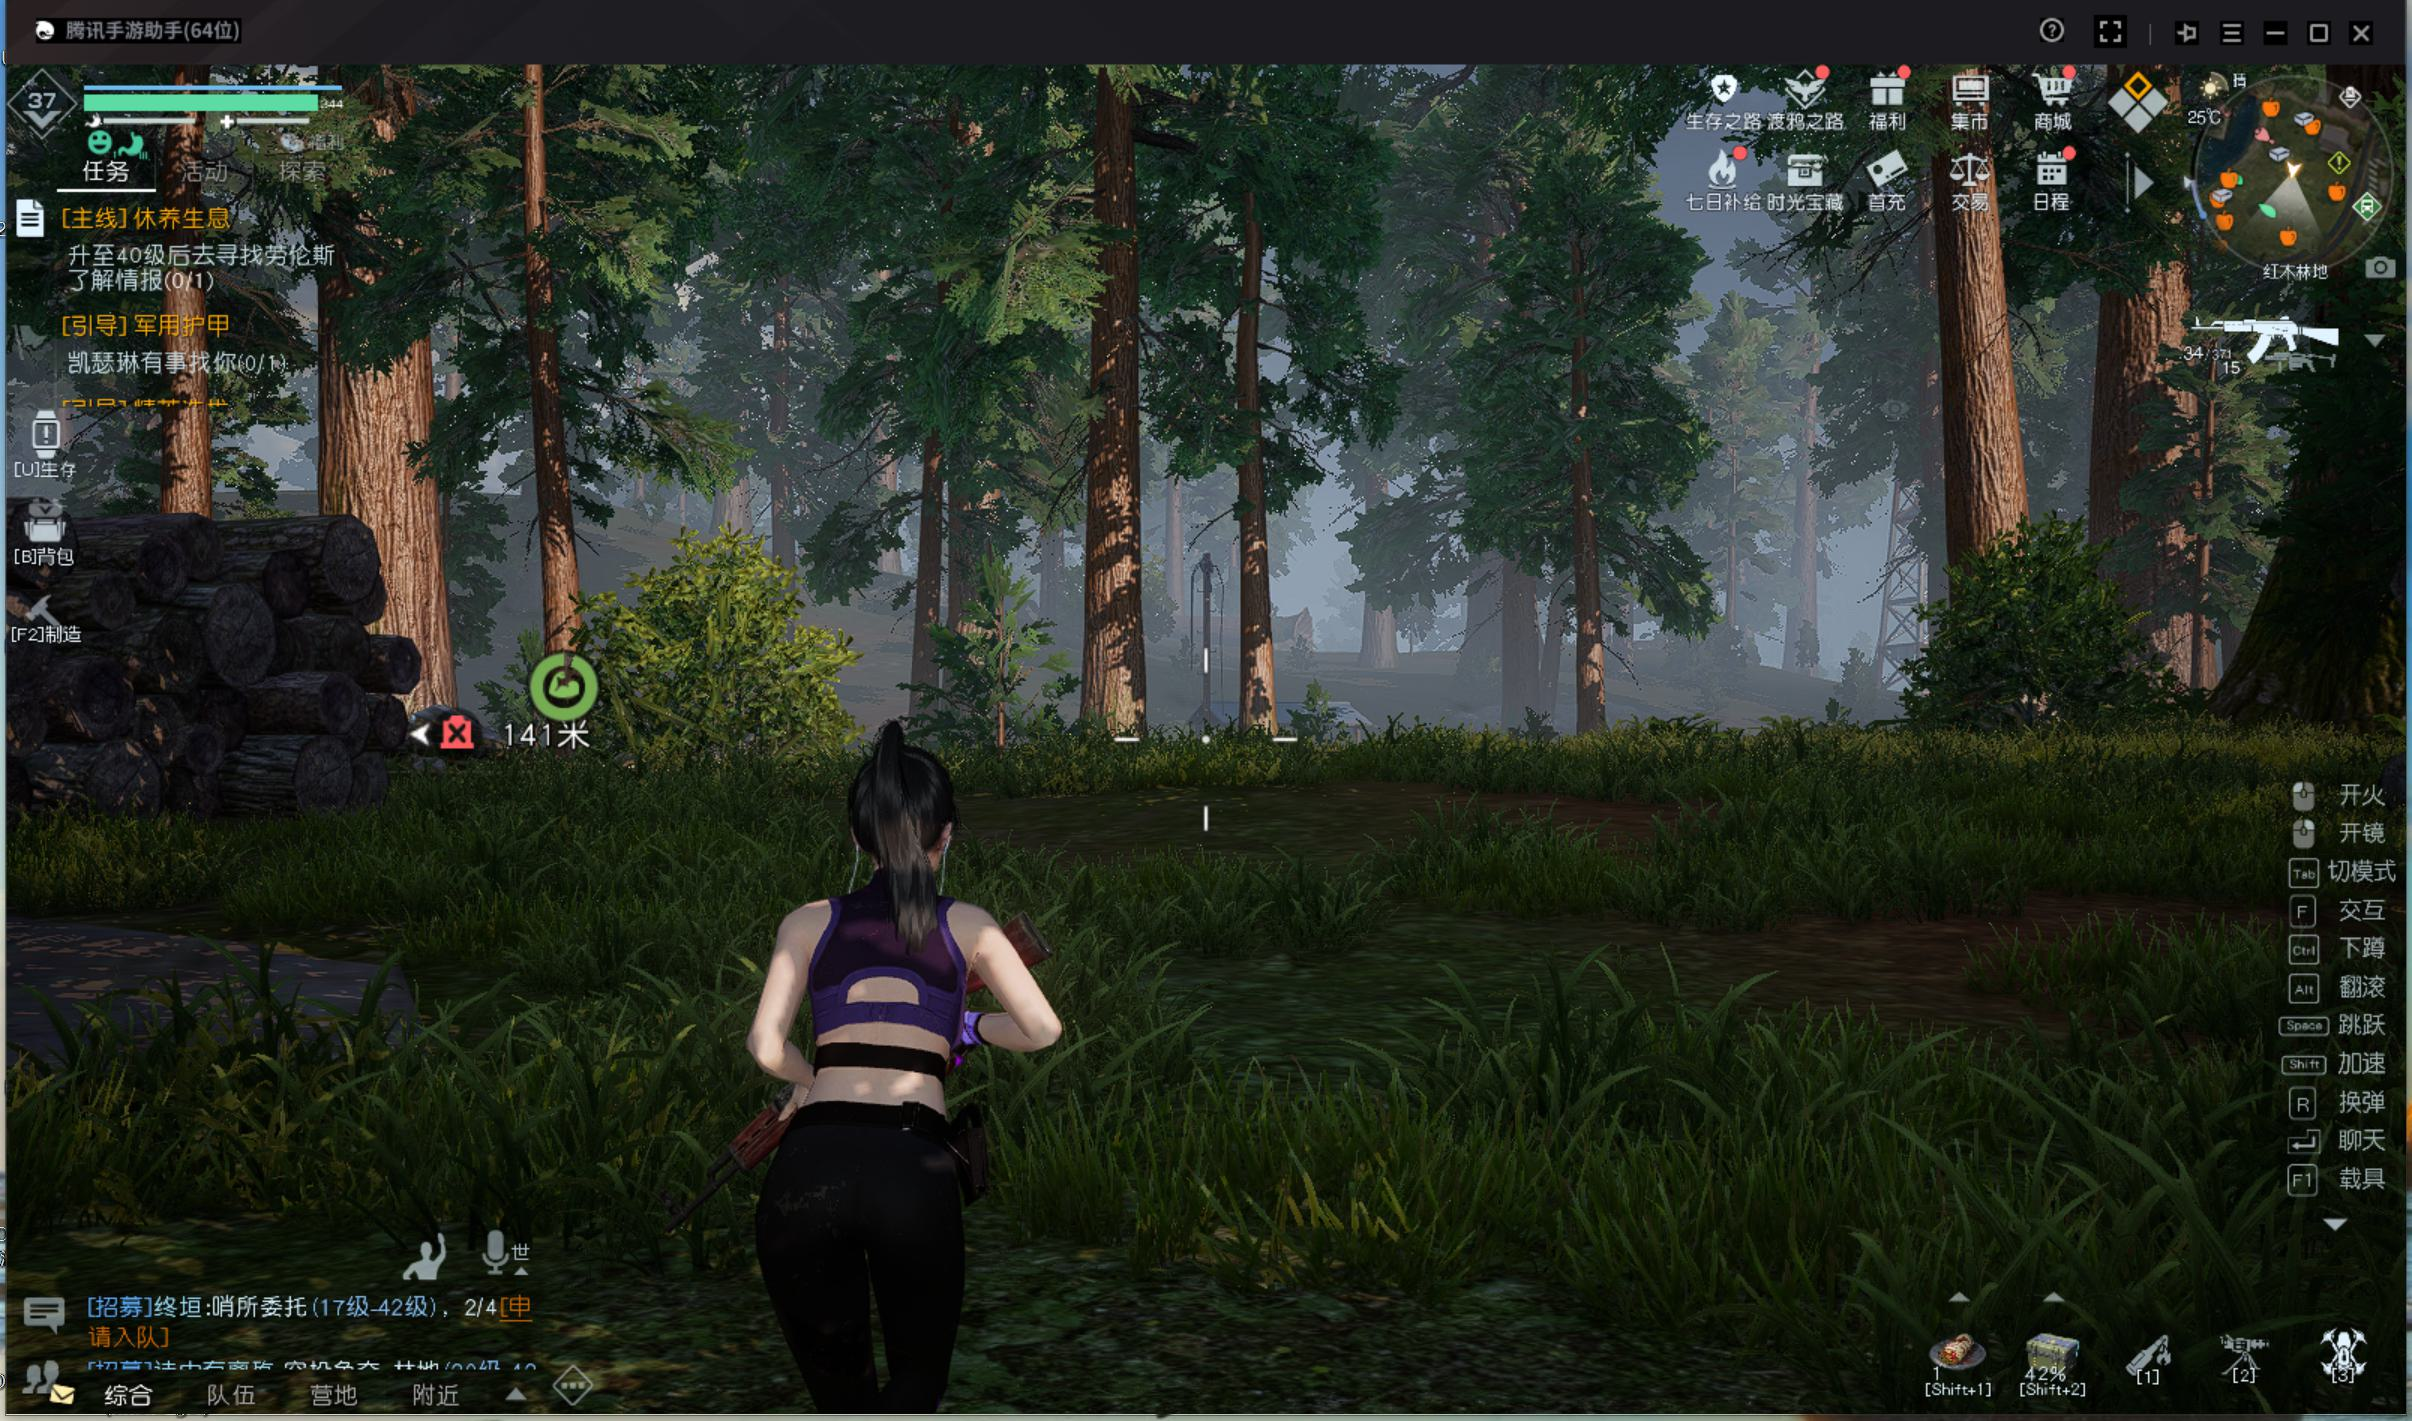tree: (308, 217, 453, 695), (1928, 211, 2042, 761), (1066, 228, 1159, 783), (1221, 289, 1279, 765), (1560, 394, 1610, 748)
